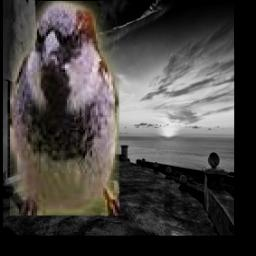Sparrow: (11, 2, 120, 216)
